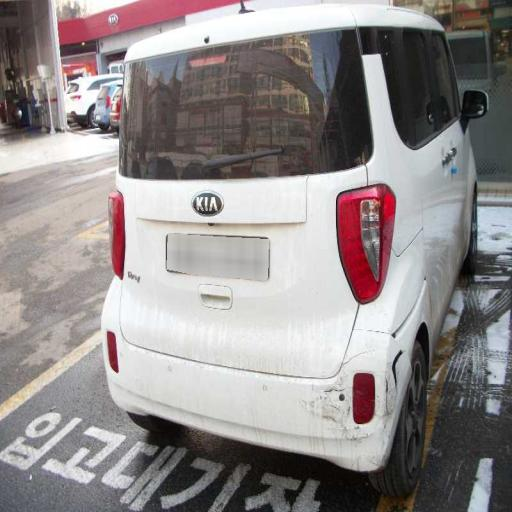scratch: (297, 355, 414, 469)
